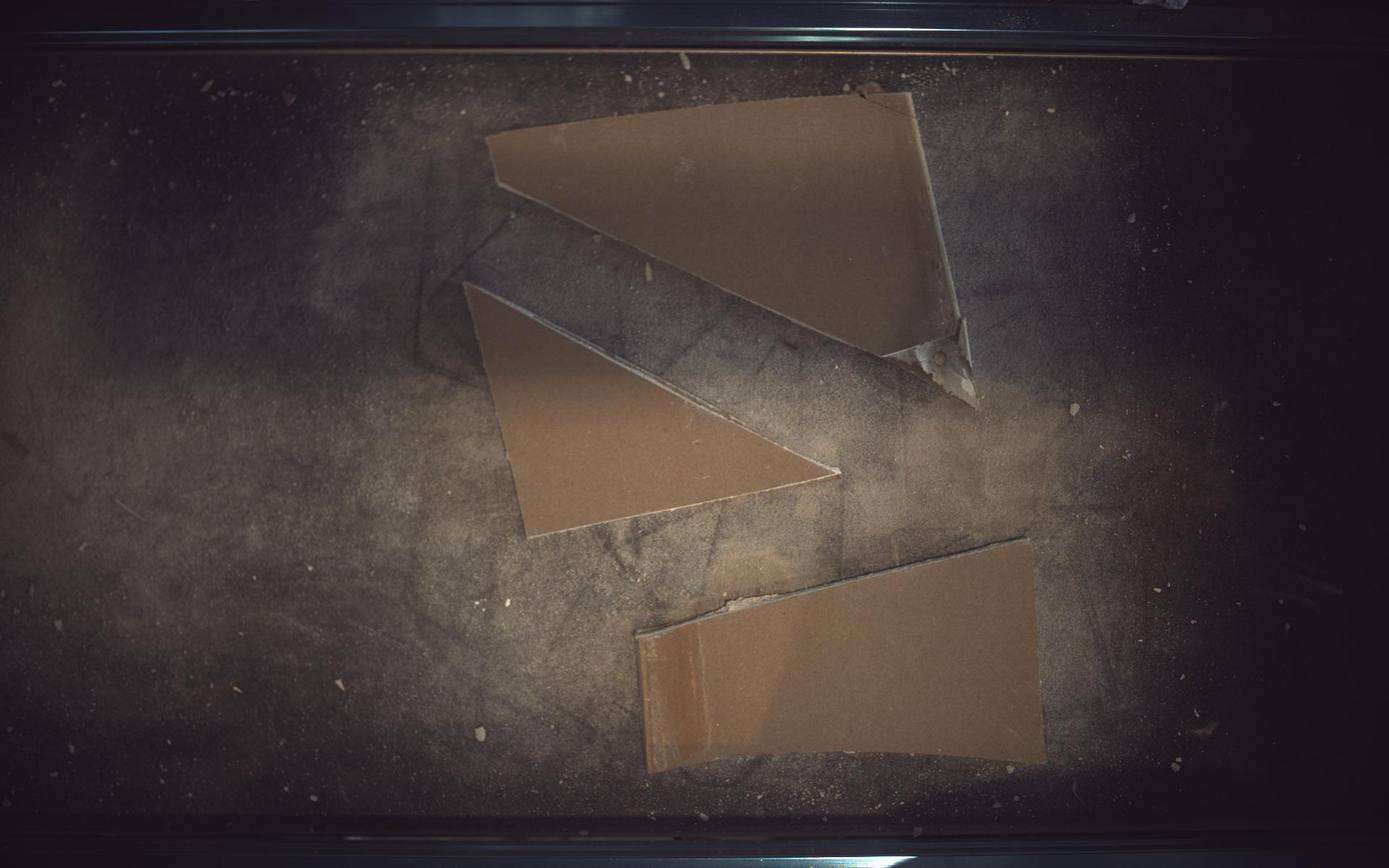gypsum_board: (488, 91, 977, 405), (639, 539, 1048, 774), (464, 282, 840, 537)
